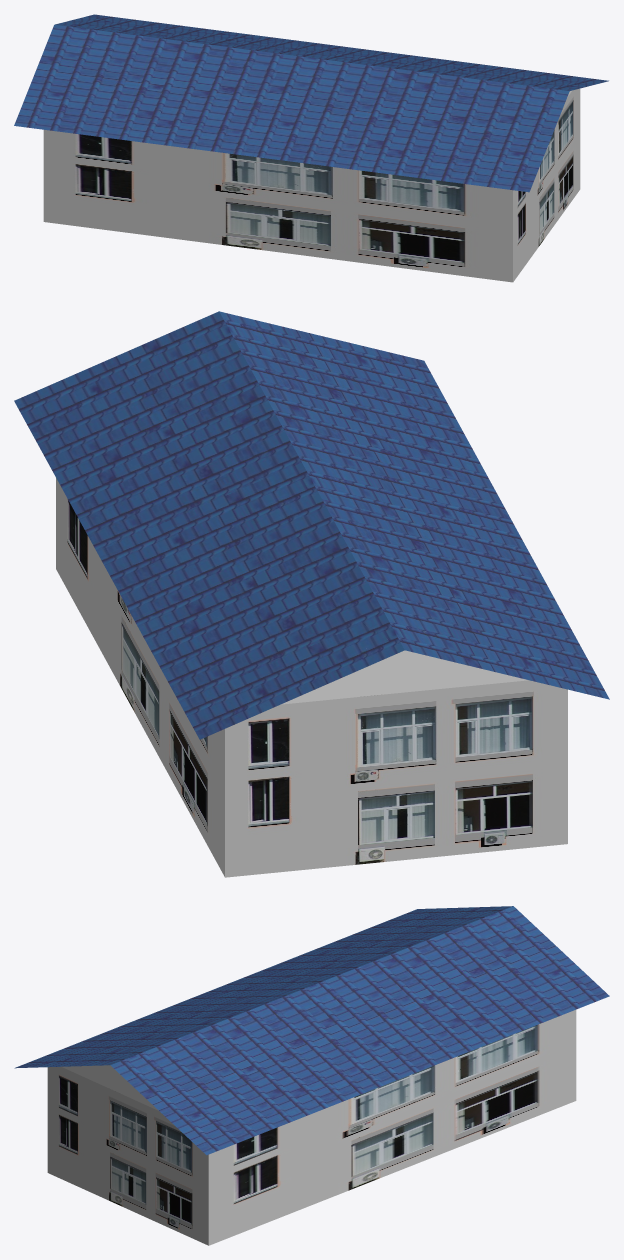
3 views of the same model, one above another, from view 1: azimuth 30°, elevation 25°; view 2: azimuth 150°, elevation 25°; view 3: azimuth 270°, elevation 25° (orthographic). The views are drawn at different scales.
Parts seen in each view (by area): view 1: CityEngineMaterial_10_m, CityEngineMaterial_9_m; view 2: CityEngineMaterial_10_m, CityEngineMaterial_9_m, CityEngineMaterial_3_m; view 3: CityEngineMaterial_10_m, CityEngineMaterial_9_m, CityEngineMaterial_3_m.
Boxes of the visible parts, x1,y1,x2,y2 form: CityEngineMaterial_10_m: (14,14,608,192); CityEngineMaterial_9_m: (43,88,580,282); CityEngineMaterial_10_m: (14,311,609,739); CityEngineMaterial_9_m: (56,478,567,877); CityEngineMaterial_3_m: (281,650,528,704); CityEngineMaterial_10_m: (14,906,609,1155); CityEngineMaterial_9_m: (47,1010,576,1245); CityEngineMaterial_3_m: (61,1065,158,1110).
Bounding box in the file's own units: 23.67 × 6.78 × 24.2.
